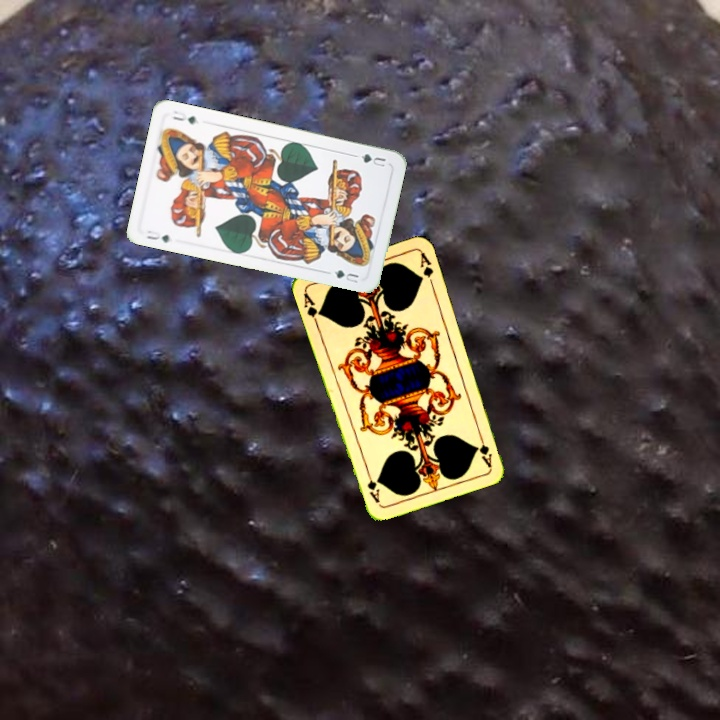GA: (299, 288, 325, 328), (474, 429, 495, 469)
GU: (350, 150, 388, 170), (142, 226, 172, 245)
